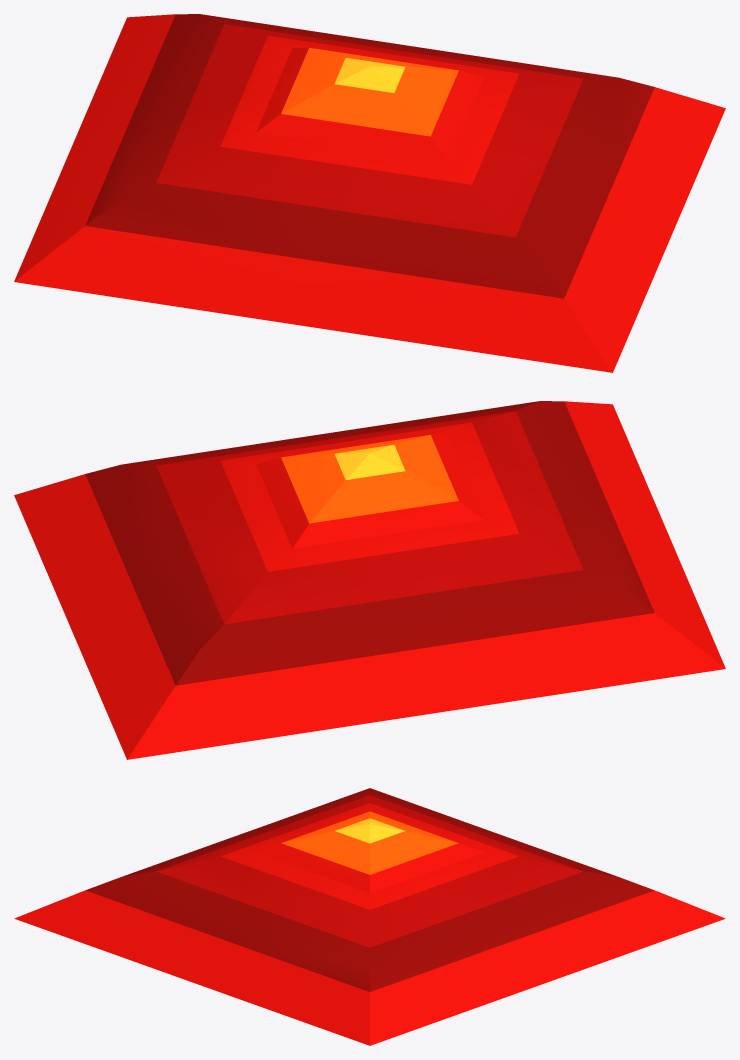
Rendered from shot_sidekick_warfly_51.glb.
3 renders of one model, top to bottom at view 1: azimuth 30°, elevation 25°; view 2: azimuth 150°, elevation 25°; view 3: azimuth 270°, elevation 25°, orthographic. The views are drawn at different scales.
Visible parts, largest first — view 1: shot_sidekick_warfly_51; view 2: shot_sidekick_warfly_51; view 3: shot_sidekick_warfly_51.
Part boxes in pixels (x1=…): shot_sidekick_warfly_51: x1=14, y1=14, x2=725, y2=372; shot_sidekick_warfly_51: x1=14, y1=401, x2=725, y2=759; shot_sidekick_warfly_51: x1=14, y1=788, x2=725, y2=1045.
Size of the model in its own units: 11 by 1.9 by 13.
